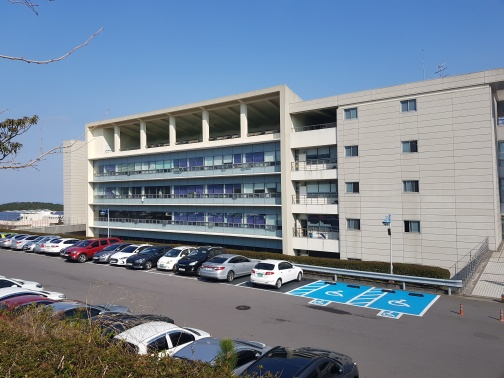Engineering College Building 4: (61, 91, 503, 238), (292, 106, 481, 256), (95, 106, 278, 229)
